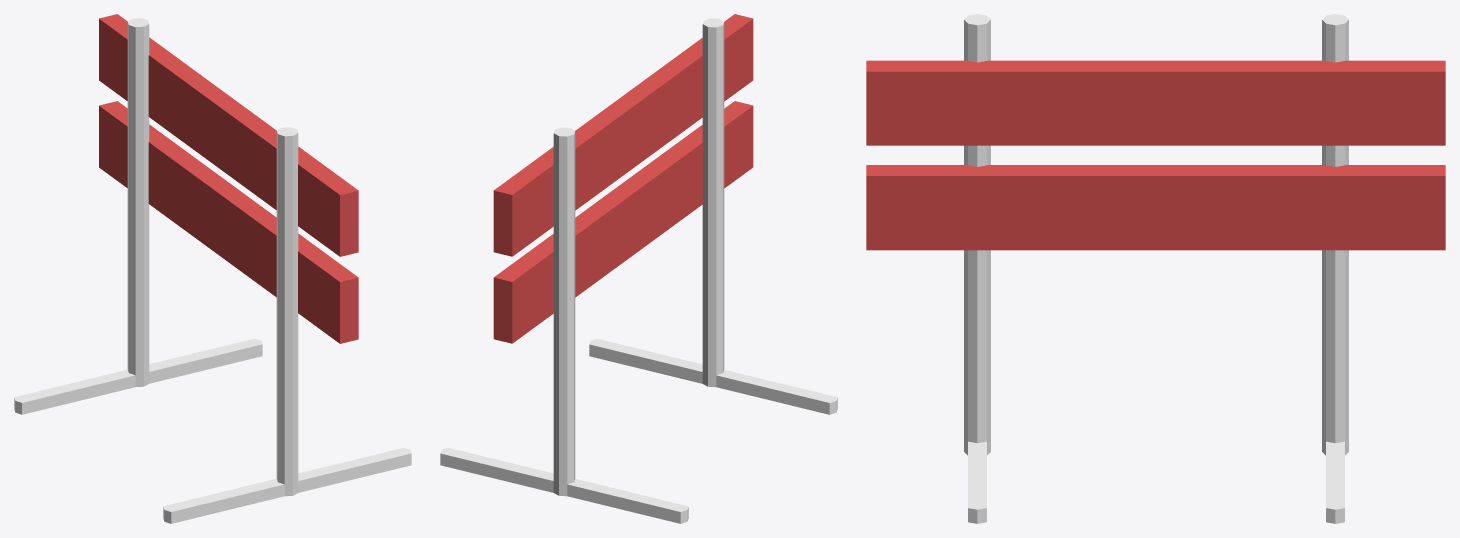
File: Barrier 1.5.fbx
The picture shows the model from 3 angles, left to right: view 1: azimuth 30°, elevation 25°; view 2: azimuth 150°, elevation 25°; view 3: azimuth 270°, elevation 25°; orthographic projection. The views are drawn at different scales.
Parts seen in each view (by area): view 1: Barrier_5.001; view 2: Barrier_5.001; view 3: Barrier_5.001.
Part boxes in pixels (left/top/right/bottom): Barrier_5.001: left=14, top=14, right=411, bottom=523; Barrier_5.001: left=440, top=14, right=837, bottom=523; Barrier_5.001: left=866, top=14, right=1445, bottom=523.
Size of the model in its own units: 130 by 182 by 221.
